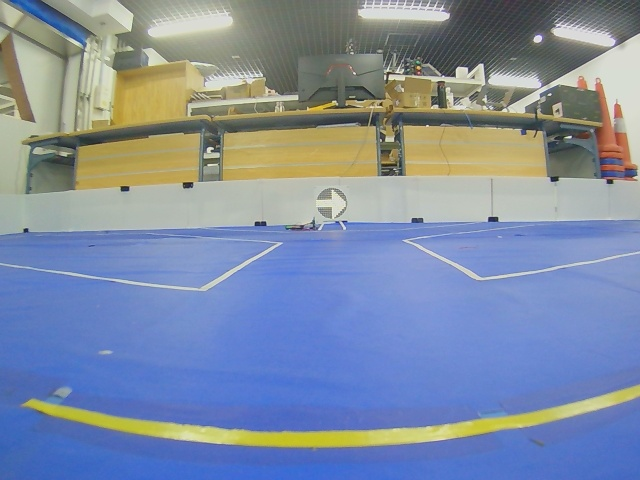right_yellow: (316, 188, 347, 220)
